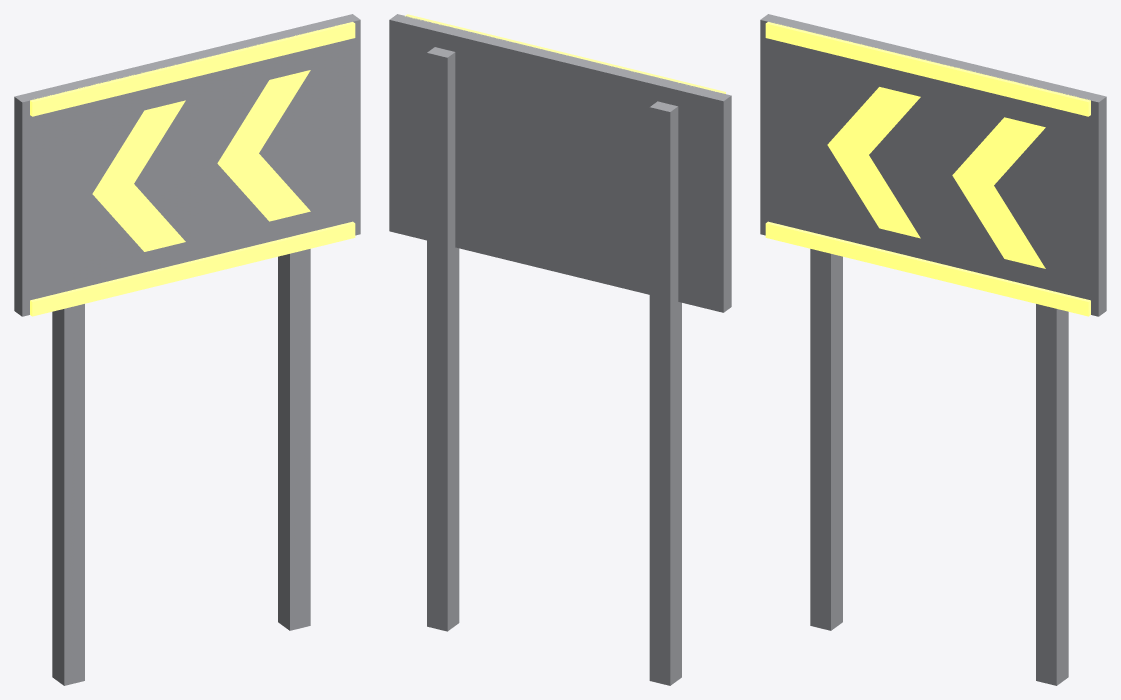
The model's file is Tabela_KeskinViraj.fbx.
The picture shows the model from 3 angles, left to right: view 1: azimuth 30°, elevation 25°; view 2: azimuth 150°, elevation 25°; view 3: azimuth 330°, elevation 25°; orthographic projection.
Parts seen in each view (by area): view 1: Tabela_KeskinViraj_LOD0; view 2: Tabela_KeskinViraj_LOD0; view 3: Tabela_KeskinViraj_LOD0.
Part boxes in pixels (box(x1,y1,x2,y2)): Tabela_KeskinViraj_LOD0: box(14, 14, 360, 685); Tabela_KeskinViraj_LOD0: box(389, 14, 731, 685); Tabela_KeskinViraj_LOD0: box(760, 14, 1106, 685).
Size of what is drawn, in the model's own units: 1.95 by 3.29 by 0.183.
